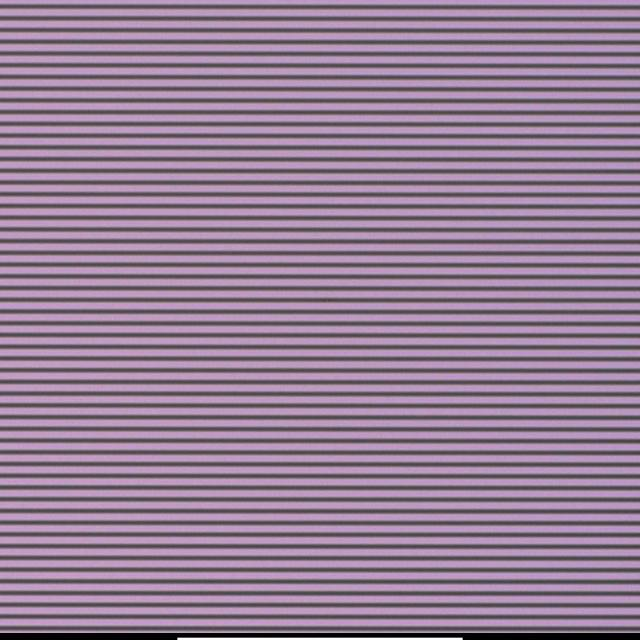03_intrusion: (325, 296, 330, 303)
